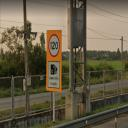speed_limit_120: (47, 34, 61, 58)
